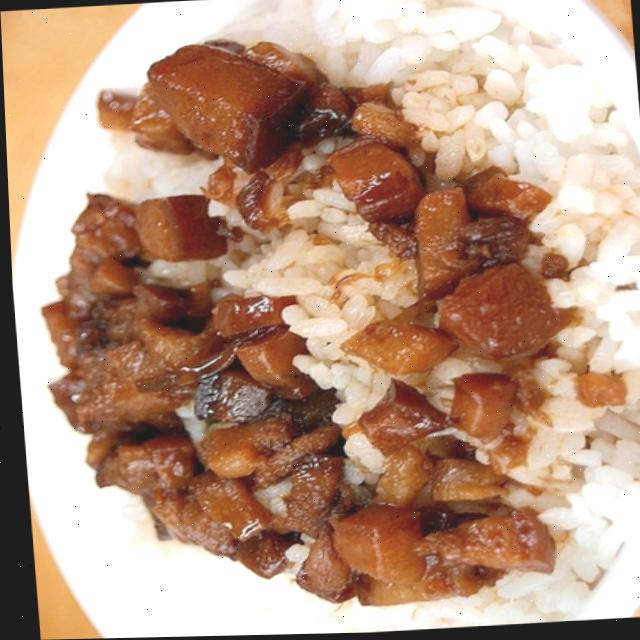猪肉菜式: (3, 0, 640, 640)
